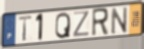1: (35, 13, 45, 42)
N: (111, 6, 129, 36)
Q: (55, 11, 72, 40)
R: (91, 7, 110, 38)
T: (17, 14, 34, 43)
Z: (72, 10, 91, 39)
